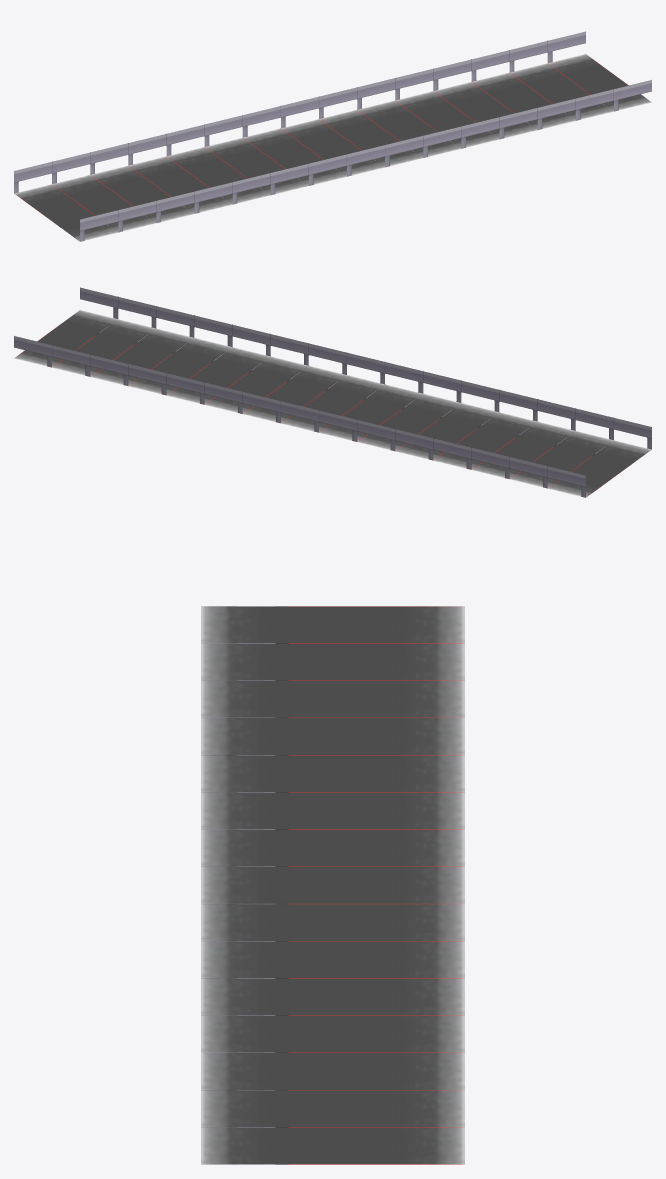
Rendered from gift plane.fbx.
The picture shows the model from 3 angles, top to bottom: view 1: azimuth 30°, elevation 25°; view 2: azimuth 150°, elevation 25°; view 3: azimuth 270°, elevation 25°; orthographic projection. The views are drawn at different scales.
Visible parts, largest first — view 1: Plane.013; view 2: Plane.013; view 3: Plane.013.
Boxes of the visible parts, <box> form: Plane.013: <box>14,31,651,241</box>; Plane.013: <box>14,287,651,497</box>; Plane.013: <box>201,606,464,1164</box>.
Size of the model in its own units: 3000 by 200 by 600.
